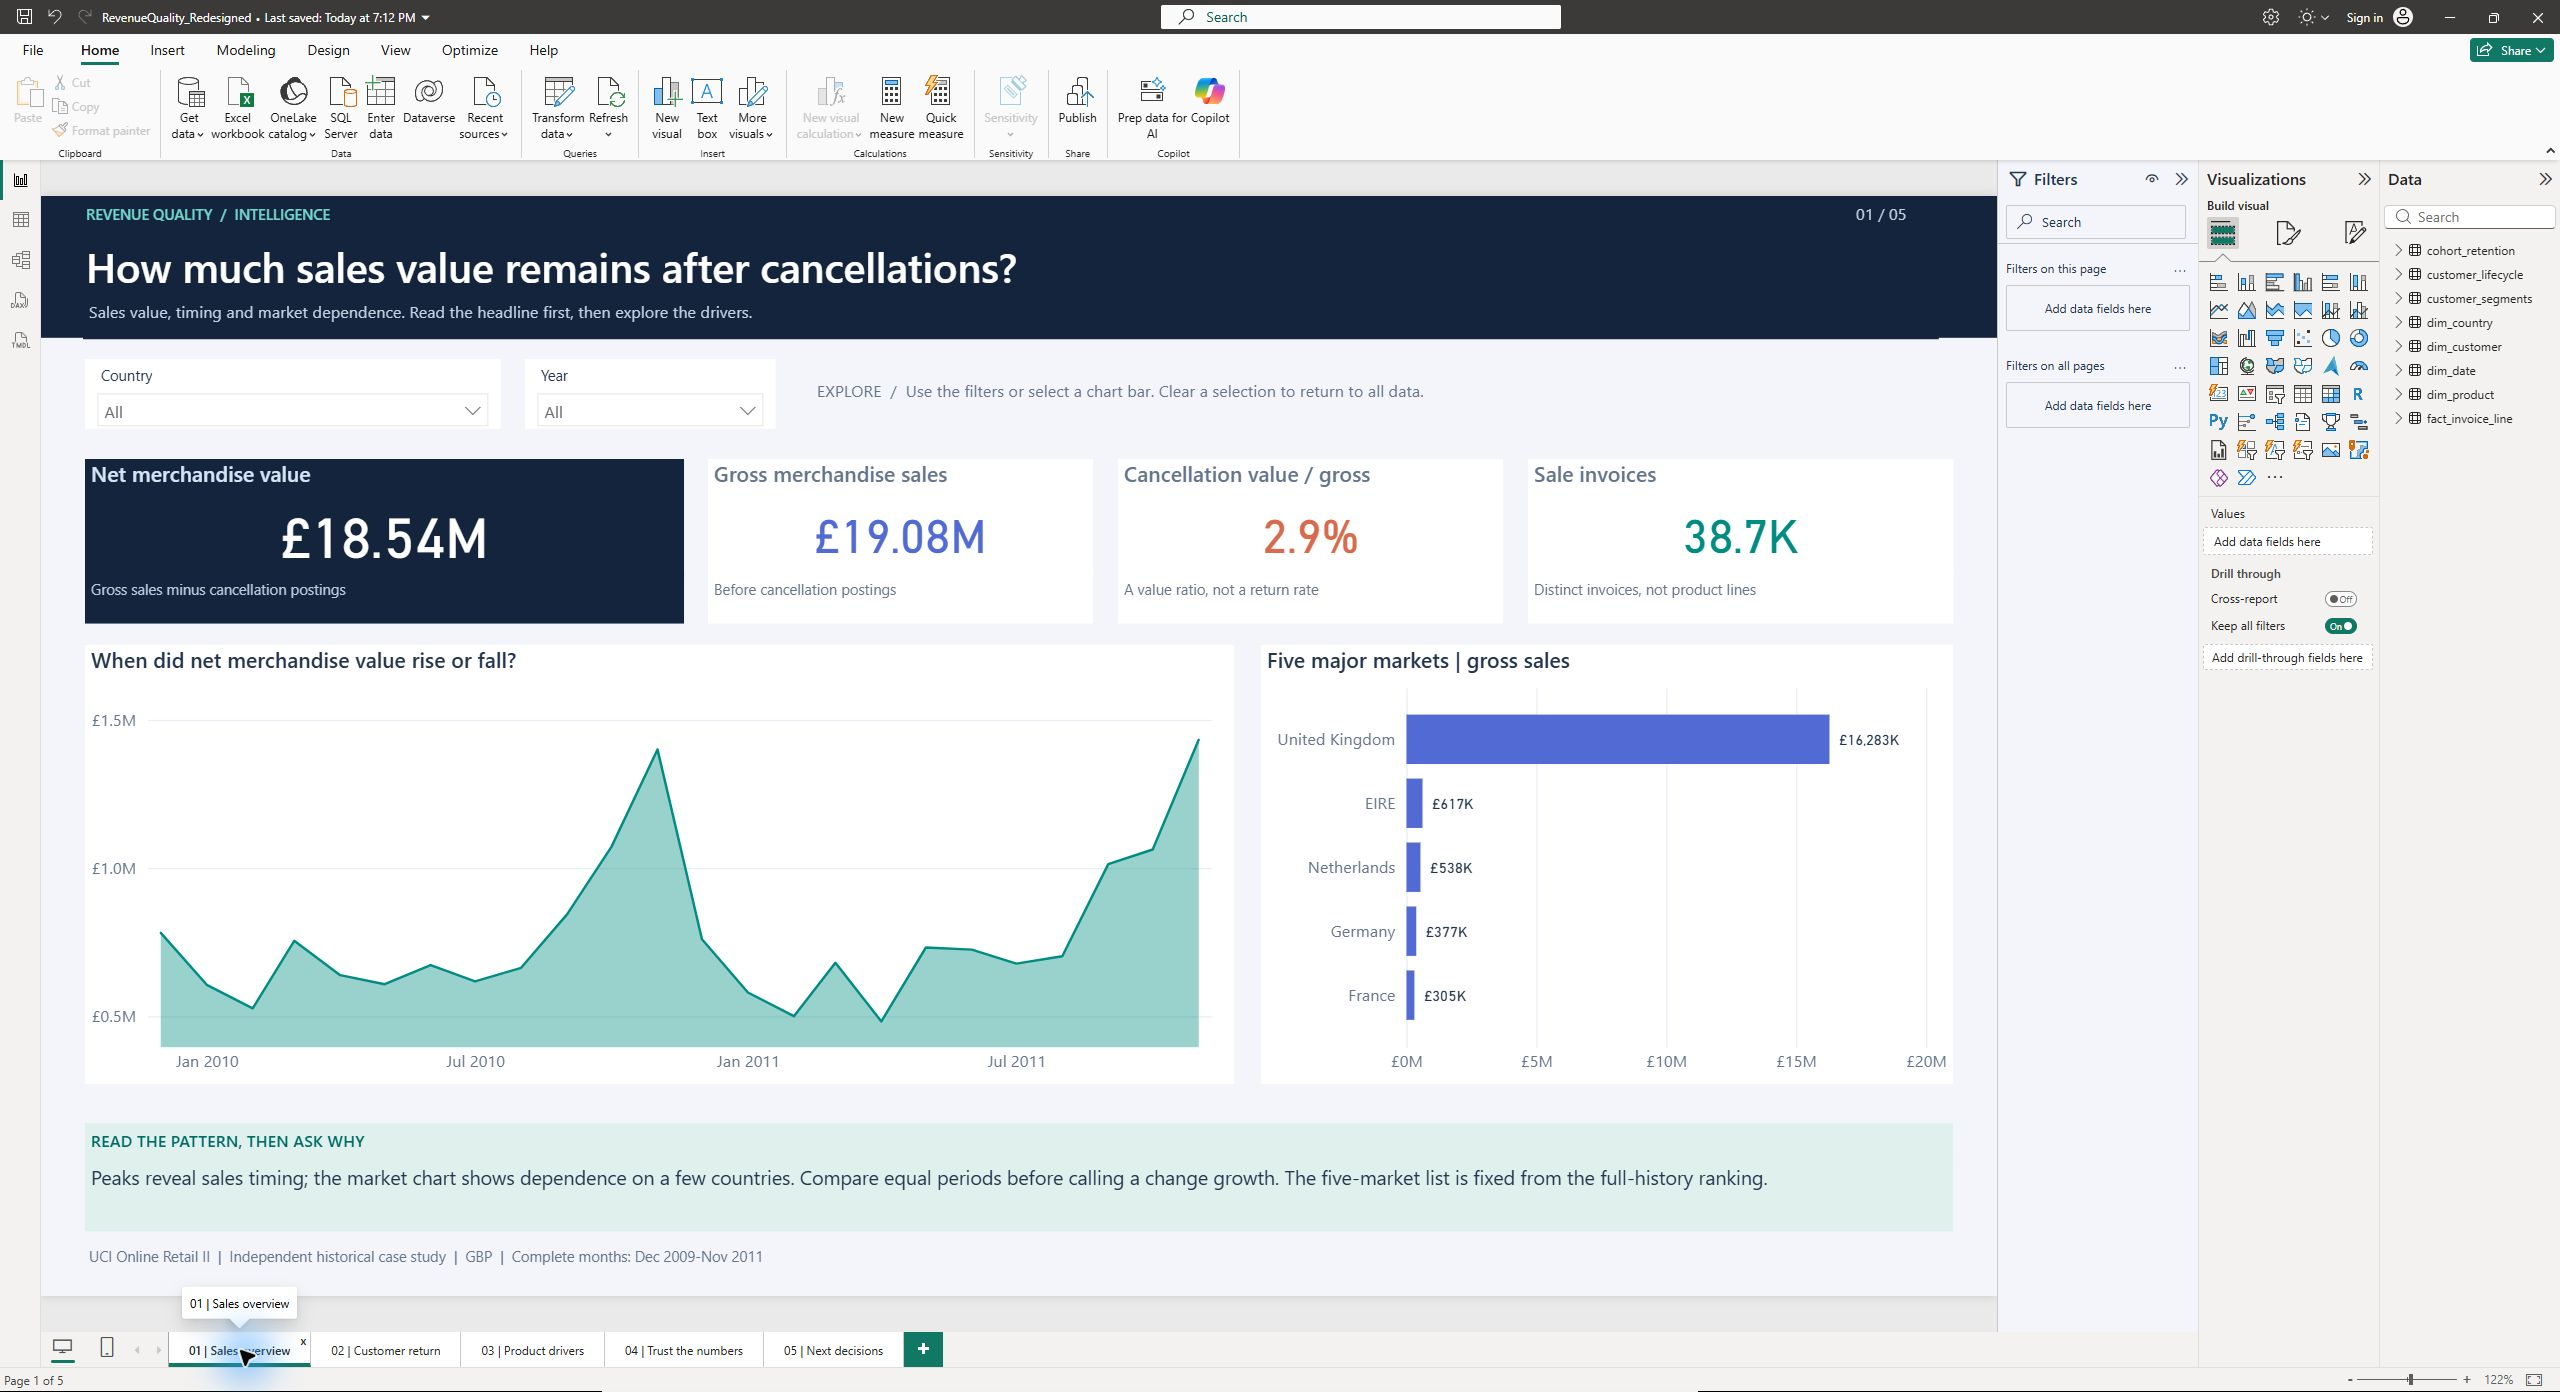

Layout of this report page (visuals, bound fields, positions):
{"tool":"powerbi","page":{"name":"01 | Sales overview","canvas":[1600,900],"ordinal":0},"visuals":[{"type":"textbox","box":[0,0,1600,116],"z":0},{"type":"textbox","box":[32,0,1000,35.5],"z":1},{"type":"textbox","box":[32,30,1515,61],"z":2},{"type":"textbox","box":[34,80,1518,37],"z":3},{"type":"textbox","box":[1480,0,92,37],"z":4},{"type":"textbox","box":[34,852,1530,36],"z":5},{"type":"slicer","fields":{"Values":["dim_country.country_key"]},"box":[36,133,340,57],"z":6},{"type":"slicer","fields":{"Values":["dim_date.calendar_year"]},"box":[396,133,205,57],"z":7},{"type":"textbox","box":[630,145,790,37],"z":8},{"type":"card","title":"Net merchandise value","fields":{"Values":["fact_invoice_line.Net Merchandise GBP"]},"box":[36,215,490,96],"z":9},{"type":"textbox","box":[36,307,490,43],"z":10},{"type":"card","title":"Gross merchandise sales","fields":{"Values":["fact_invoice_line.Gross Sales GBP"]},"box":[546,215,315,96],"z":11},{"type":"textbox","box":[546,307,315,43],"z":12},{"type":"card","title":"Cancellation value / gross","fields":{"Values":["fact_invoice_line.Cancellation Value Ratio"]},"box":[881,215,315,96],"z":13},{"type":"textbox","box":[881,307,315,43],"z":14},{"type":"card","title":"Sale invoices","fields":{"Values":["fact_invoice_line.Sale Invoices"]},"box":[1216,215,348,96],"z":15},{"type":"textbox","box":[1216,307,348,43],"z":16},{"type":"areaChart","title":"When did net merchandise value rise or fall?","fields":{"Category":["dim_date.month_start"],"Y":["fact_invoice_line.Net Merchandise GBP"]},"box":[36,367,940,359],"z":17},{"type":"clusteredBarChart","title":"Five major markets | gross sales","fields":{"Category":["dim_country.country_key"],"Y":["fact_invoice_line.Gross Sales GBP"]},"box":[998,367,566,359],"z":18},{"type":"textbox","box":[36,758,1528,37],"z":19},{"type":"textbox","box":[36,787,1528,60],"z":20}]}

Visuals, with their boxes on the page's 1600x900 design canvas (x1, y1, x2, y2). These are canvas units, not pixel positions in the 2560x1392 screenshot, which may show the page scaled, cropped or inside an application window:
textbox: rect(0, 0, 1600, 116)
textbox: rect(32, 0, 1032, 36)
textbox: rect(32, 30, 1547, 91)
textbox: rect(34, 80, 1552, 117)
textbox: rect(1480, 0, 1572, 37)
textbox: rect(34, 852, 1564, 888)
slicer - dim_country.country_key: rect(36, 133, 376, 190)
slicer - dim_date.calendar_year: rect(396, 133, 601, 190)
textbox: rect(630, 145, 1420, 182)
"Net merchandise value" card: rect(36, 215, 526, 311)
textbox: rect(36, 307, 526, 350)
"Gross merchandise sales" card: rect(546, 215, 861, 311)
textbox: rect(546, 307, 861, 350)
"Cancellation value / gross" card: rect(881, 215, 1196, 311)
textbox: rect(881, 307, 1196, 350)
"Sale invoices" card: rect(1216, 215, 1564, 311)
textbox: rect(1216, 307, 1564, 350)
"When did net merchandise value rise or fall?" areaChart: rect(36, 367, 976, 726)
"Five major markets | gross sales" clusteredBarChart: rect(998, 367, 1564, 726)
textbox: rect(36, 758, 1564, 795)
textbox: rect(36, 787, 1564, 847)
